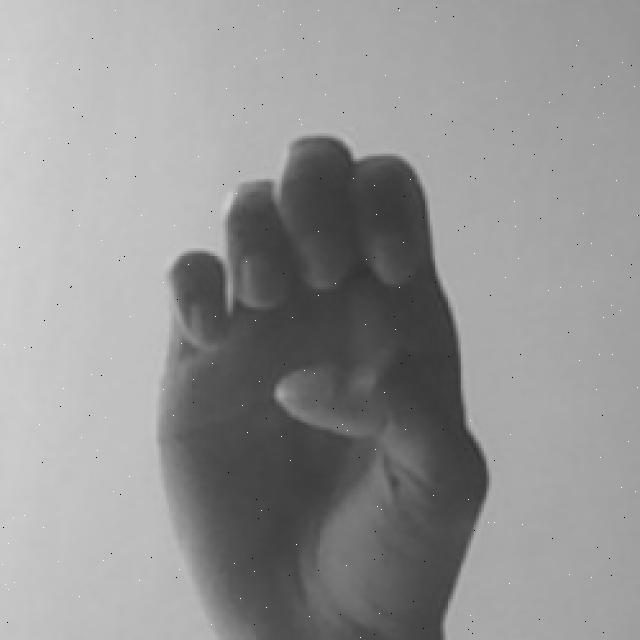E: (148, 132, 488, 640)
